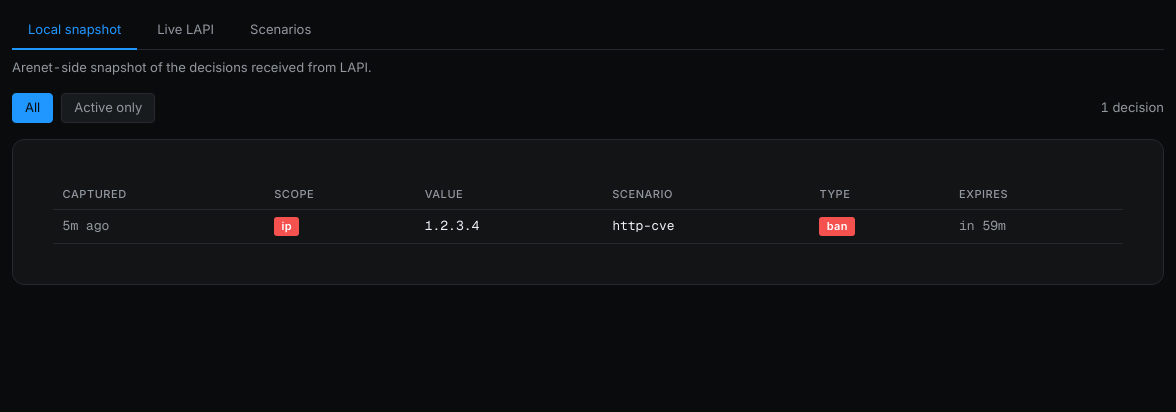
Test case: CrowdSec decisions panel — Live LAPI tab › filters the table client-side when an origin tab is clicked (no re-fetch)
Click the tab with test id "tab-live" at point(186, 31), box [141,12,230,50]
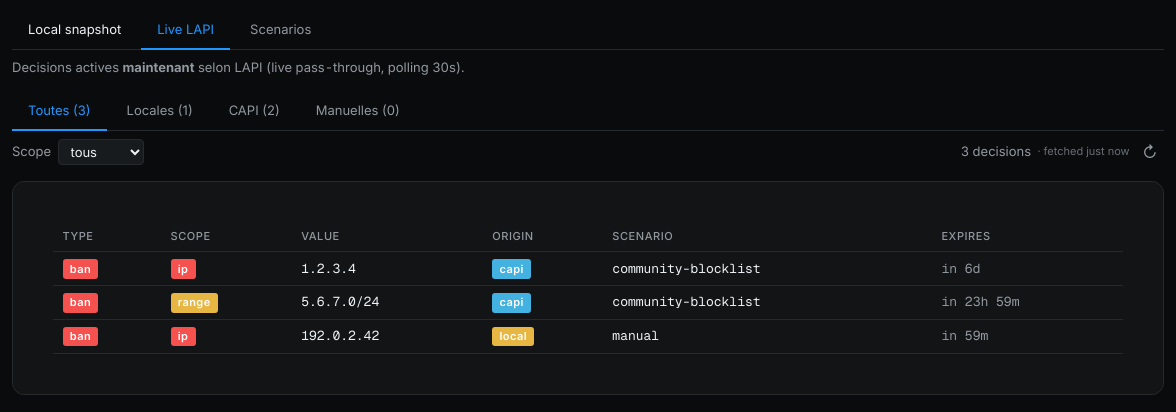
Result: the tab with test id "live-tab-all" is shown at [12,93,107,130]
Result: the text "5.6.7.0/24" is shown at [292,286,483,319]
Result: the text "192.0.2.42" is shown at [292,319,483,353]
Click the tab with test id "live-tab-local" at point(160, 112), box [111,93,209,130]
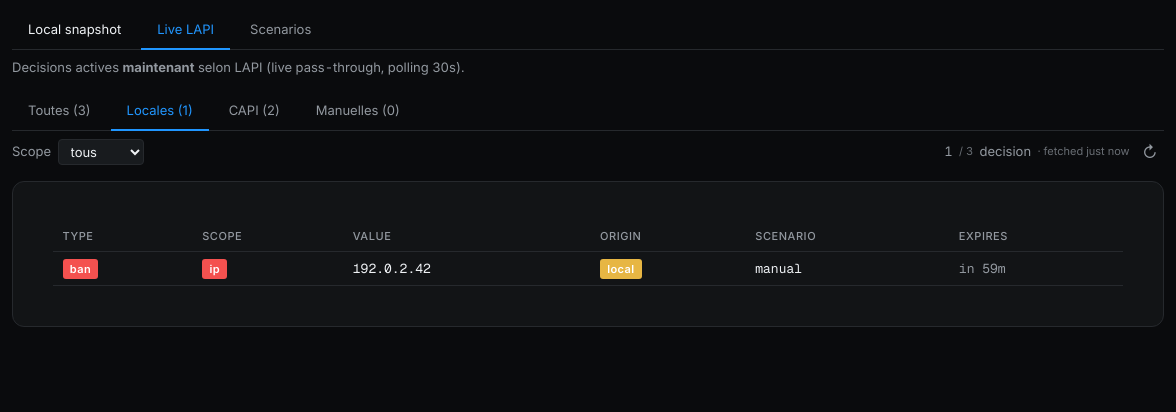
Result: the text "192.0.2.42" is shown at [343,252,590,286]
Result: the text "5.6.7.0/24" is gone
